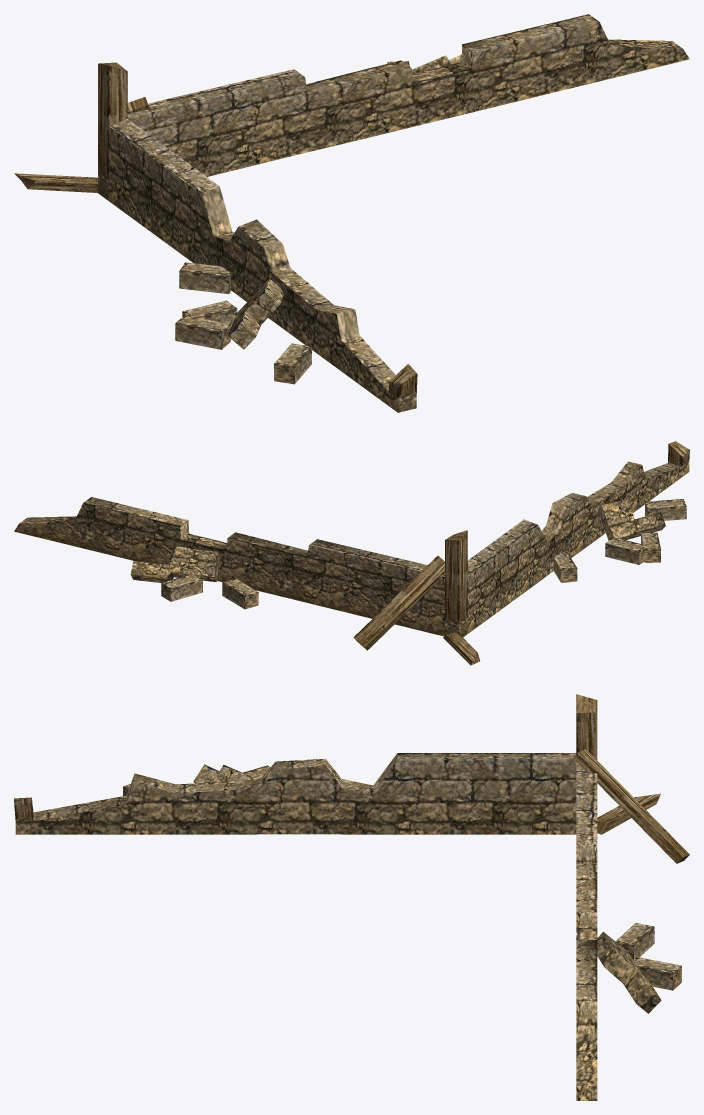
Rendered from M6_Ruins1.glb.
3 views of the same model, one above another, from view 1: azimuth 30°, elevation 25°; view 2: azimuth 150°, elevation 25°; view 3: azimuth 270°, elevation 25° (orthographic). The views are drawn at different scales.
Parts seen in each view (by area): view 1: M6_RUINS1; view 2: M6_RUINS1; view 3: M6_RUINS1.
Part boxes in pixels (x1,y1,x2,y2): M6_RUINS1: (14,14,689,412); M6_RUINS1: (14,441,689,665); M6_RUINS1: (14,694,689,1100).
Bounding box in the file's own units: 5.16 × 0.997 × 4.62.
Materials: 1 (1 with a texture image).
